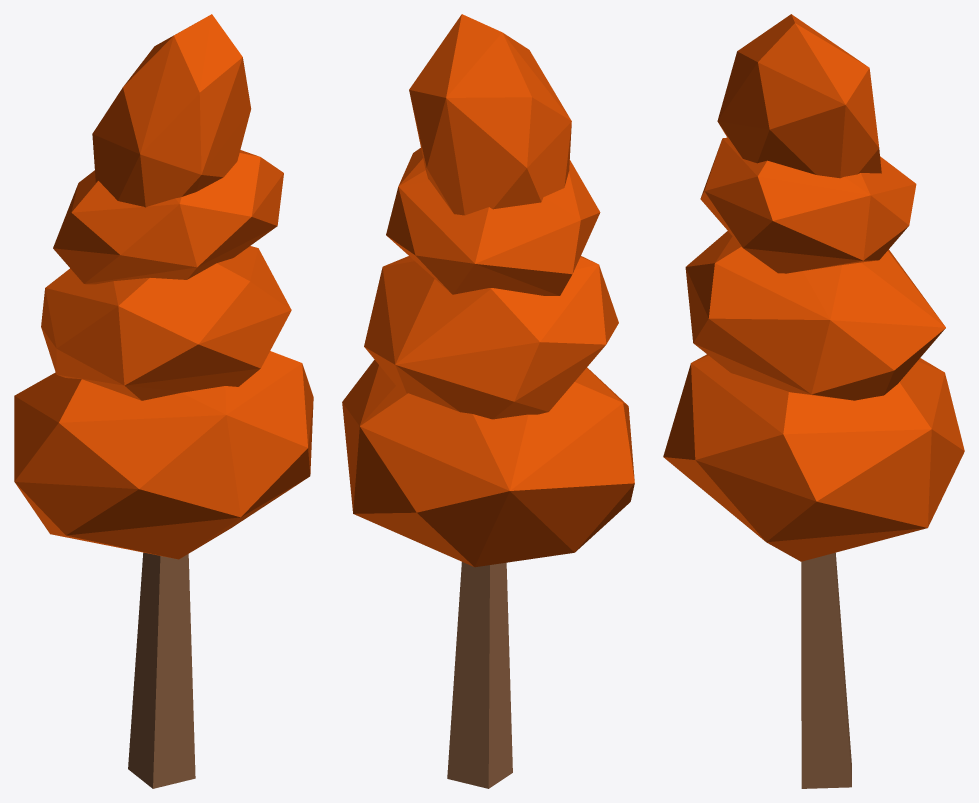
Rendered from tree-autumn-complete-4-008.glb.
3 renders of one model, left to right at view 1: azimuth 30°, elevation 25°; view 2: azimuth 150°, elevation 25°; view 3: azimuth 270°, elevation 25°, orthographic. The views are drawn at different scales.
Parts seen in each view (by area): view 1: TREE 4.003_398, TREE 4.002_421; view 2: TREE 4.003_398, TREE 4.002_421; view 3: TREE 4.003_398, TREE 4.002_421.
Part boxes in pixels (x1,y1,x2,y2): TREE 4.003_398: (14,14,313,559); TREE 4.002_421: (128,552,195,788); TREE 4.003_398: (342,14,634,567); TREE 4.002_421: (447,562,512,788); TREE 4.003_398: (663,14,964,561); TREE 4.002_421: (801,552,851,788).
Bounding box in the file's own units: 0.7503 × 1.82 × 0.646.
